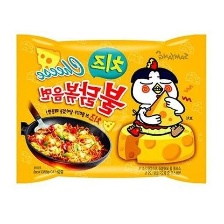snack: (6, 25, 215, 191)
